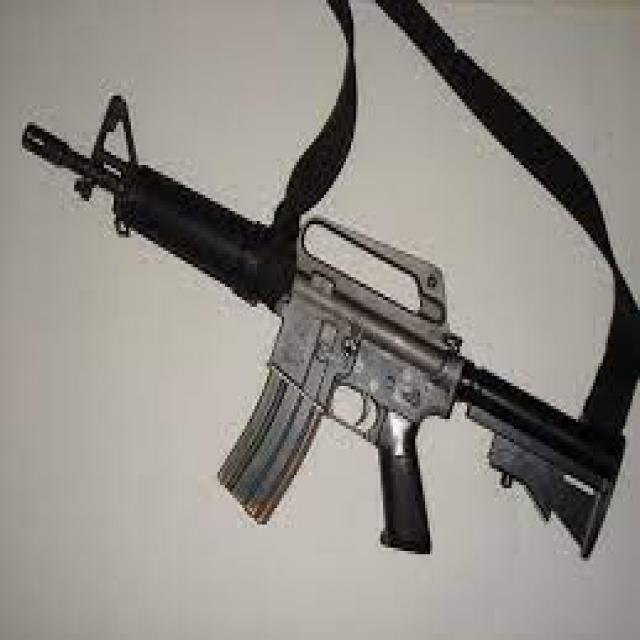m16: (14, 69, 631, 611)
